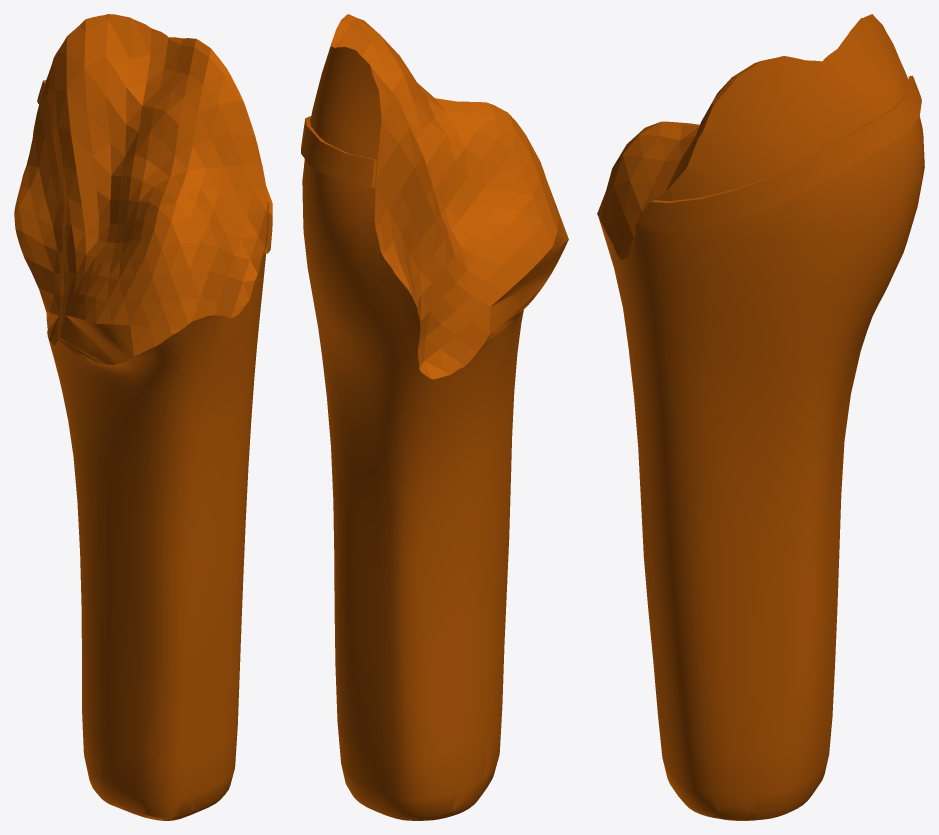
Rendered from body.003.fbx.
3 renders of one model, left to right at view 1: azimuth 30°, elevation 25°; view 2: azimuth 150°, elevation 25°; view 3: azimuth 270°, elevation 25°, orthographic. The views are drawn at different scales.
Visible parts, largest first — view 1: body.003_Baked; view 2: body.003_Baked; view 3: body.003_Baked.
Part boxes in pixels (x1,y1,x2,y2): body.003_Baked: [14, 14, 272, 820]; body.003_Baked: [301, 14, 568, 820]; body.003_Baked: [597, 14, 924, 820].
Bounding box in the file's own units: 80.12 × 309 × 118.
Materials: 1 (1 with a texture image).
